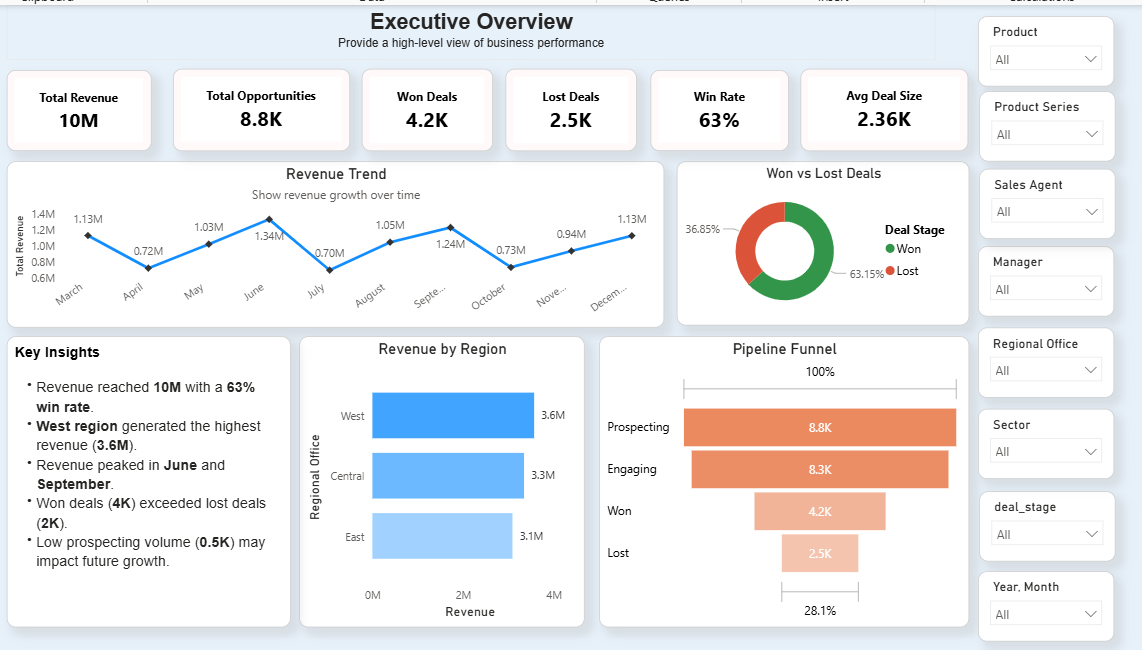

Layout of this report page (visuals, bound fields, positions):
{"tool":"powerbi","page":{"name":"Executive Summary","canvas":[1280,720],"ordinal":1},"visuals":[{"type":"cardVisual","title":"Total Revenue","fields":{"Data":["Measures_table.Total Revenue"]},"box":[9.8,72.5,161.8,90.7],"z":0},{"type":"lineChart","title":"Revenue Trend","fields":{"Category":["sales_pipeline.close_date.Variation.Date Hierarchy.Year","sales_pipeline.close_date.Variation.Date Hierarchy.Quarter","sales_pipeline.close_date.Variation.Date Hierarchy.Month","sales_pipeline.close_date.Variation.Date Hierarchy.Day"],"Y":["Measures_table.Total Revenue"]},"box":[9.8,174.3,733.6,185.5],"z":1000},{"type":"clusteredBarChart","title":"Revenue by Region","fields":{"Category":["sales_teams.regional_office"],"Y":["Measures_table.Total Revenue"]},"box":[336.1,369.4,318.1,325],"z":2000},{"type":"donutChart","title":"Won vs Lost Deals","fields":{"Category":["sales_pipeline.deal_stage"],"Y":["CountNonNull(sales_pipeline.opportunity_id)"]},"box":[756.9,175,326.4,183.3],"z":3000},{"type":"funnel","title":"Pipeline Funnel","fields":{"Category":["Funnel Stage.Stage"],"Y":["Measures_table.Funnel Value"]},"box":[670.8,369.4,412.5,325],"z":4000},{"type":"textbox","box":[9.8,0,1036.2,61.4],"z":5000},{"type":"cardVisual","fields":{"Data":["Measures_table.Total Opportunities"]},"box":[195.8,70.8,197.2,91.7],"z":6000},{"type":"cardVisual","fields":{"Data":["Measures_table.Won Deals"]},"box":[405.8,71.1,146.4,92],"z":7000},{"type":"cardVisual","fields":{"Data":["Measures_table.Lost Deals"]},"box":[566.2,71.1,146.4,92],"z":8000},{"type":"cardVisual","fields":{"Data":["Measures_table.Win Rate"]},"box":[727.8,72.2,154.2,90.3],"z":9000},{"type":"cardVisual","fields":{"Data":["Measures_table.Avg Deal Size"]},"box":[895.8,70.8,187.5,91.7],"z":10000},{"type":"slicer","fields":{"Values":["products.product"]},"box":[1093.4,12.6,152,78.1],"z":11000},{"type":"slicer","fields":{"Values":["products.series"]},"box":[1094.8,96.2,152,78.1],"z":12000},{"type":"slicer","fields":{"Values":["sales_teams.manager"]},"box":[1093.4,269.2,152,78.1],"z":13000},{"type":"slicer","fields":{"Values":["sales_teams.regional_office"]},"box":[1093.4,359.8,152,78.1],"z":14000},{"type":"slicer","fields":{"Values":["sales_pipeline.deal_stage"]},"box":[1094.8,542.5,152,78.1],"z":15000},{"type":"slicer","fields":{"Values":["accounts.sector"]},"box":[1093.4,450.5,152,78.1],"z":16000},{"type":"slicer","fields":{"Values":["sales_pipeline.engage_date.Variation.Date Hierarchy.Year","sales_pipeline.engage_date.Variation.Date Hierarchy.Month"]},"box":[1093.4,631.8,152,78.1],"z":17000},{"type":"textbox","box":[9.7,369.4,316.7,325],"z":18000},{"type":"slicer","fields":{"Values":["sales_pipeline.sales_agent"]},"box":[1094.8,182.7,152,78.1],"z":19000}]}

Visuals, with their boxes on the page's 1280x720 design canvas (x1, y1, x2, y2). These are canvas units, not pixel positions in the 1142x650 screenshot, which may show the page scaled, cropped or inside an application window:
"Total Revenue" cardVisual: [left=10, top=72, right=172, bottom=163]
"Revenue Trend" lineChart: [left=10, top=174, right=743, bottom=360]
"Revenue by Region" clusteredBarChart: [left=336, top=369, right=654, bottom=694]
"Won vs Lost Deals" donutChart: [left=757, top=175, right=1083, bottom=358]
"Pipeline Funnel" funnel: [left=671, top=369, right=1083, bottom=694]
textbox: [left=10, top=0, right=1046, bottom=61]
cardVisual - Measures_table.Total Opportunities: [left=196, top=71, right=393, bottom=162]
cardVisual - Measures_table.Won Deals: [left=406, top=71, right=552, bottom=163]
cardVisual - Measures_table.Lost Deals: [left=566, top=71, right=713, bottom=163]
cardVisual - Measures_table.Win Rate: [left=728, top=72, right=882, bottom=162]
cardVisual - Measures_table.Avg Deal Size: [left=896, top=71, right=1083, bottom=162]
slicer - products.product: [left=1093, top=13, right=1245, bottom=91]
slicer - products.series: [left=1095, top=96, right=1247, bottom=174]
slicer - sales_teams.manager: [left=1093, top=269, right=1245, bottom=347]
slicer - sales_teams.regional_office: [left=1093, top=360, right=1245, bottom=438]
slicer - sales_pipeline.deal_stage: [left=1095, top=542, right=1247, bottom=621]
slicer - accounts.sector: [left=1093, top=450, right=1245, bottom=529]
slicer - sales_pipeline.engage_date.Variation.Date Hierarchy.Year x sales_pipeline.engage_date.Variation.Date Hierarchy.Month: [left=1093, top=632, right=1245, bottom=710]
textbox: [left=10, top=369, right=326, bottom=694]
slicer - sales_pipeline.sales_agent: [left=1095, top=183, right=1247, bottom=261]
